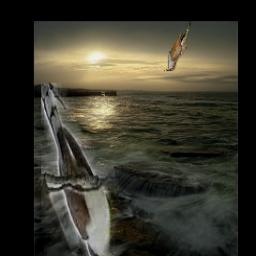Cuckoo: (40, 83, 118, 256), (163, 21, 190, 72)
